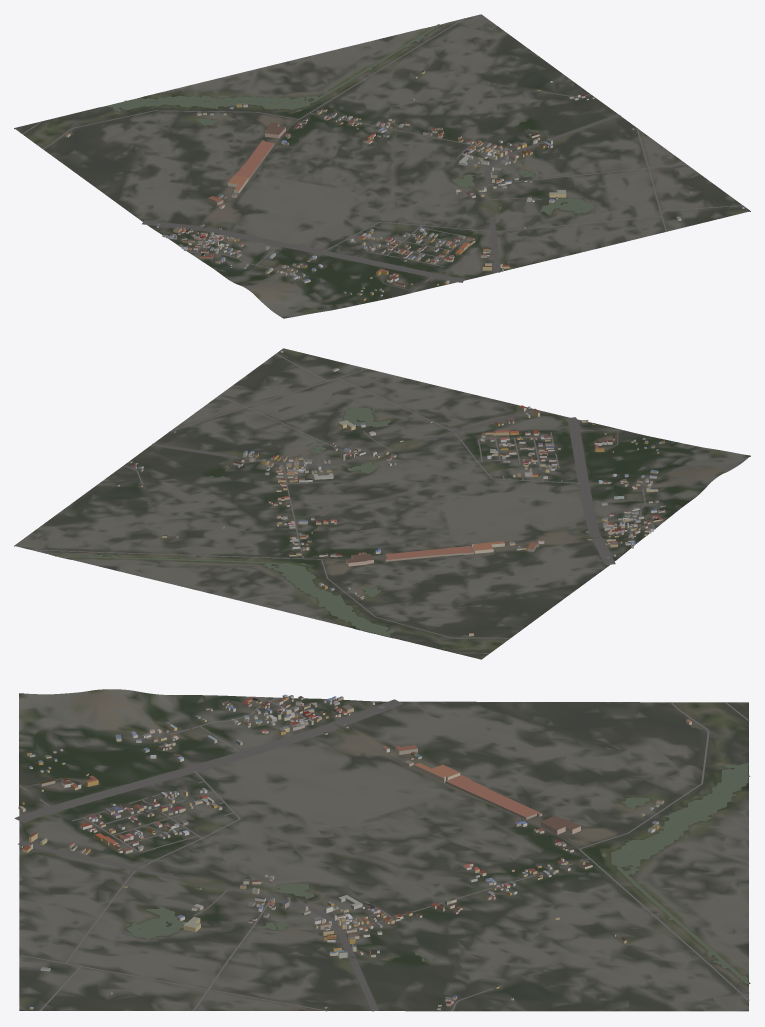
The picture shows the model from 3 angles, top to bottom: view 1: azimuth 30°, elevation 25°; view 2: azimuth 150°, elevation 25°; view 3: azimuth 270°, elevation 25°; orthographic projection. The views are drawn at different scales.
Parts seen in each view (by area): view 1: ground, buildings, roads, water; view 2: ground, buildings, roads, water; view 3: ground, buildings, roads, water.
Part boxes in pixels (x1,y1,x2,y2): ground: (14, 14, 750, 318); buildings: (66, 70, 744, 300); roads: (22, 18, 742, 293); water: (106, 24, 595, 214); ground: (14, 348, 750, 659); buildings: (117, 350, 665, 636); roads: (30, 354, 655, 653); water: (55, 406, 395, 636); ground: (19, 689, 748, 1011); buildings: (18, 694, 691, 1010); roads: (14, 697, 749, 1011); water: (126, 763, 750, 984).
Size of the model in its own units: 1416 by 32.4 by 1416.
